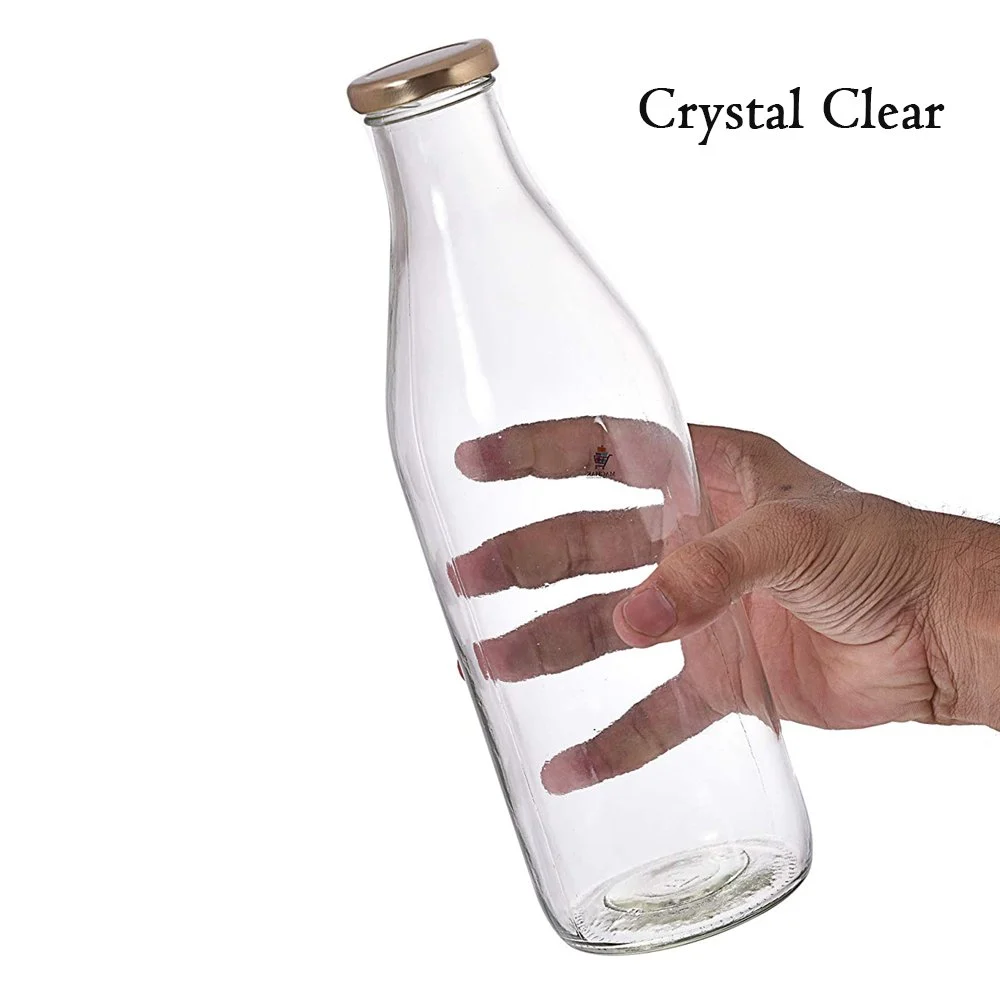glass_bottle: (320, 32, 823, 972)
